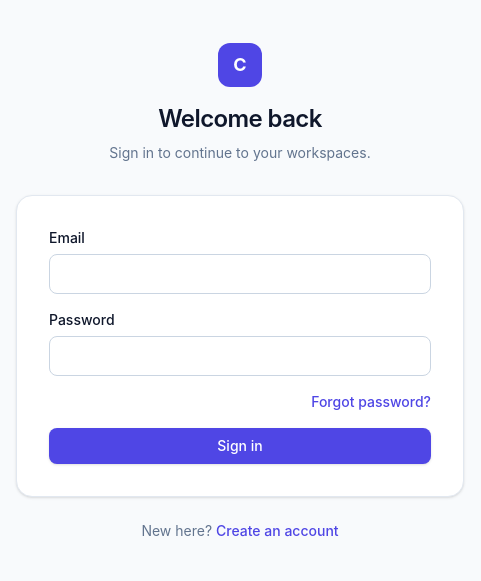
LoginPage › shows the server error when the credentials are wrong
The width and height of the screenshot is (481, 581).
Type "owner@demo.test" into the field labelled "Email" at (240,274), box [49,254,431,294]
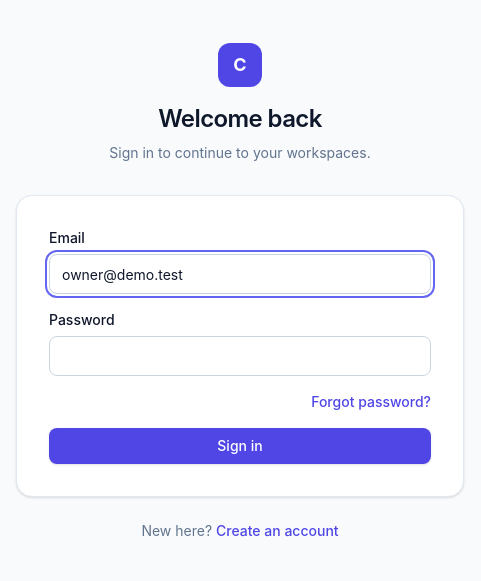
Type "wrong-pass1" into the password field labelled "Password" at (240,356), box [49,336,431,376]
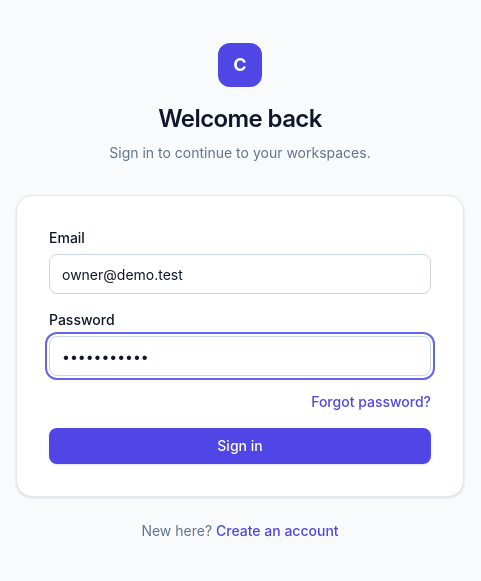
Click the button "Sign in" at (240,446), box [49,428,431,464]
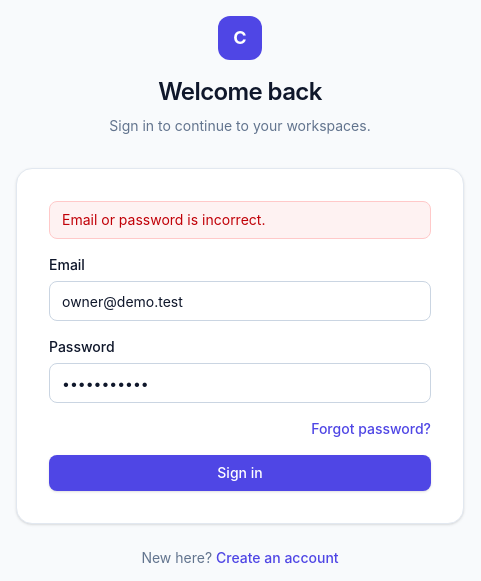
Expected: the message reads "Email or password is incorrect.", [62,211,265,228]
